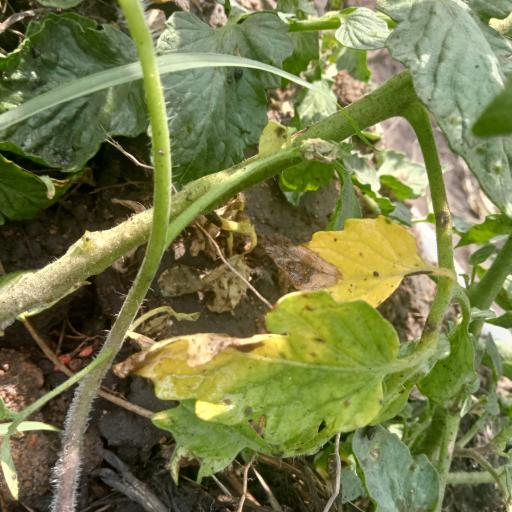Tomato_Brown_Spots: (112, 289, 402, 484), (265, 214, 429, 312)
